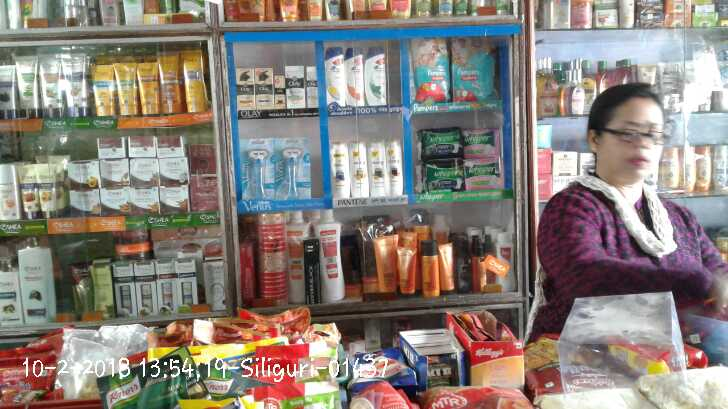venus: (273, 138, 307, 200), (239, 138, 273, 200)
